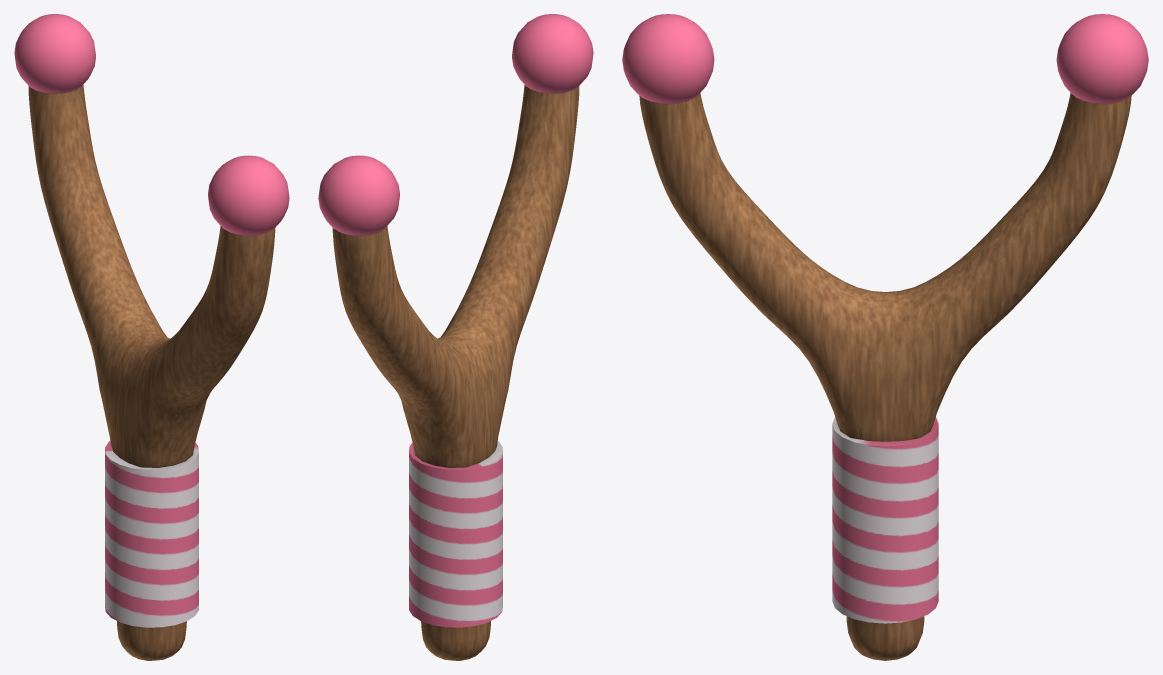
The model's file is Wooden Slingshot.fbx.
3 renders of one model, left to right at view 1: azimuth 30°, elevation 25°; view 2: azimuth 150°, elevation 25°; view 3: azimuth 270°, elevation 25°, orthographic. The views are drawn at different scales.
Parts seen in each view (by area): view 1: Wooden Slingshot; view 2: Wooden Slingshot; view 3: Wooden Slingshot.
Part boxes in pixels (left/top/right/bottom): Wooden Slingshot: left=14, top=14, right=289, bottom=660; Wooden Slingshot: left=318, top=14, right=593, bottom=660; Wooden Slingshot: left=622, top=14, right=1148, bottom=660.
Bounding box in the file's own units: 1.96 × 12.97 × 9.7.
Materials: 1 (1 with a texture image).
